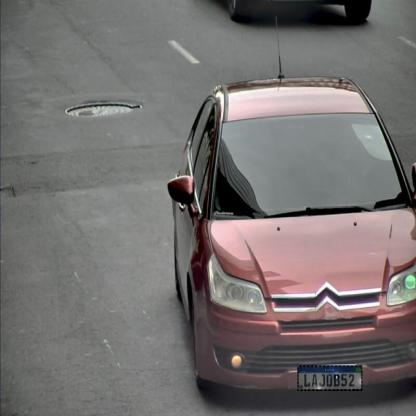PlacaM: (298, 365, 362, 391)
